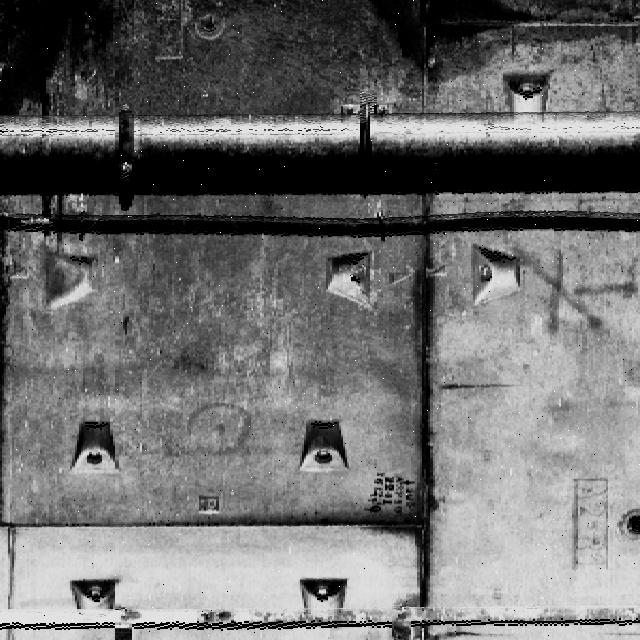leakage: (362, 236, 440, 622), (360, 1, 640, 84), (1, 1, 130, 128)
